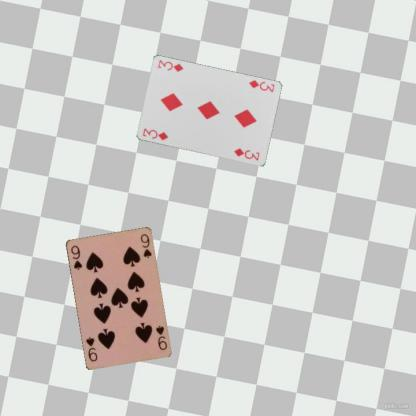3d: (140, 126, 169, 142), (246, 78, 276, 93)
9s: (153, 323, 168, 351), (68, 243, 83, 270)
